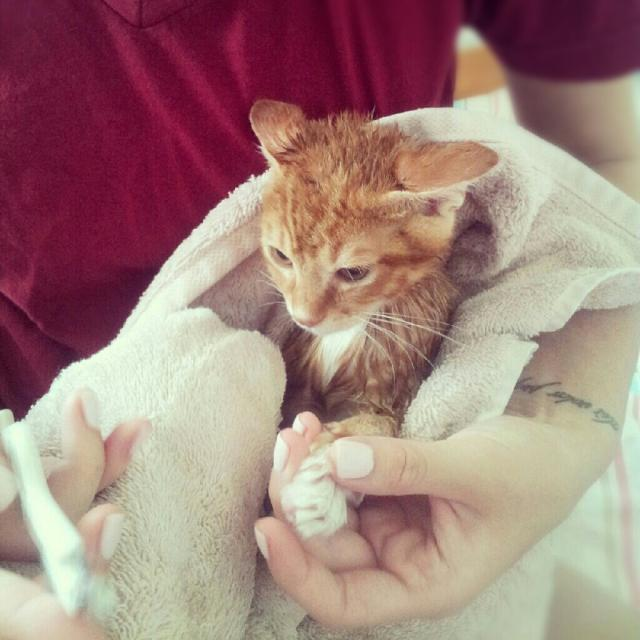cat: (210, 72, 529, 572)
